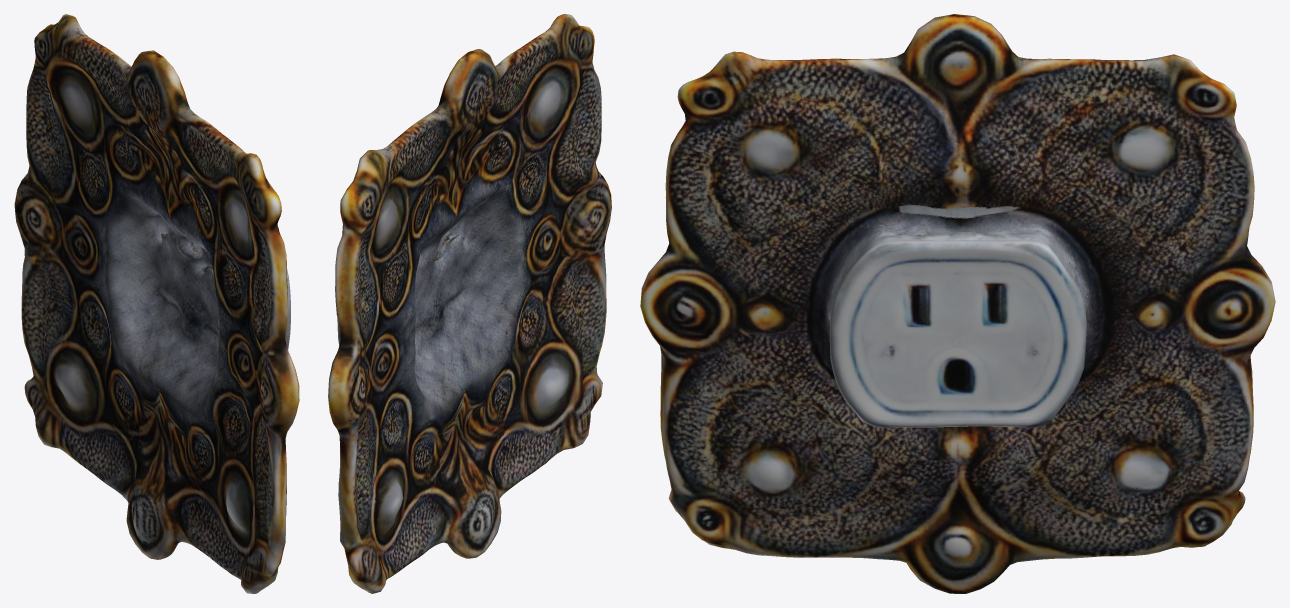
The model's file is fa5412e2794b_Adorable_ELECTRICAL.fbx.
3 renders of one model, left to right at view 1: azimuth 30°, elevation 25°; view 2: azimuth 150°, elevation 25°; view 3: azimuth 270°, elevation 25°, orthographic. The views are drawn at different scales.
Visible parts, largest first — view 1: mesh; view 2: mesh; view 3: mesh.
Part boxes in pixels (left/top/right/bottom): mesh: left=14, top=14, right=299, bottom=593; mesh: left=328, top=14, right=611, bottom=593; mesh: left=640, top=14, right=1275, bottom=593.
Size of the model in its own units: 20.98 by 99.72 by 98.81.
